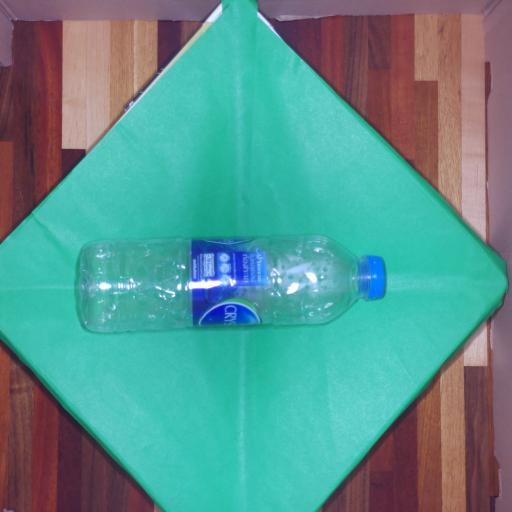bottle: (50, 225, 398, 337)
